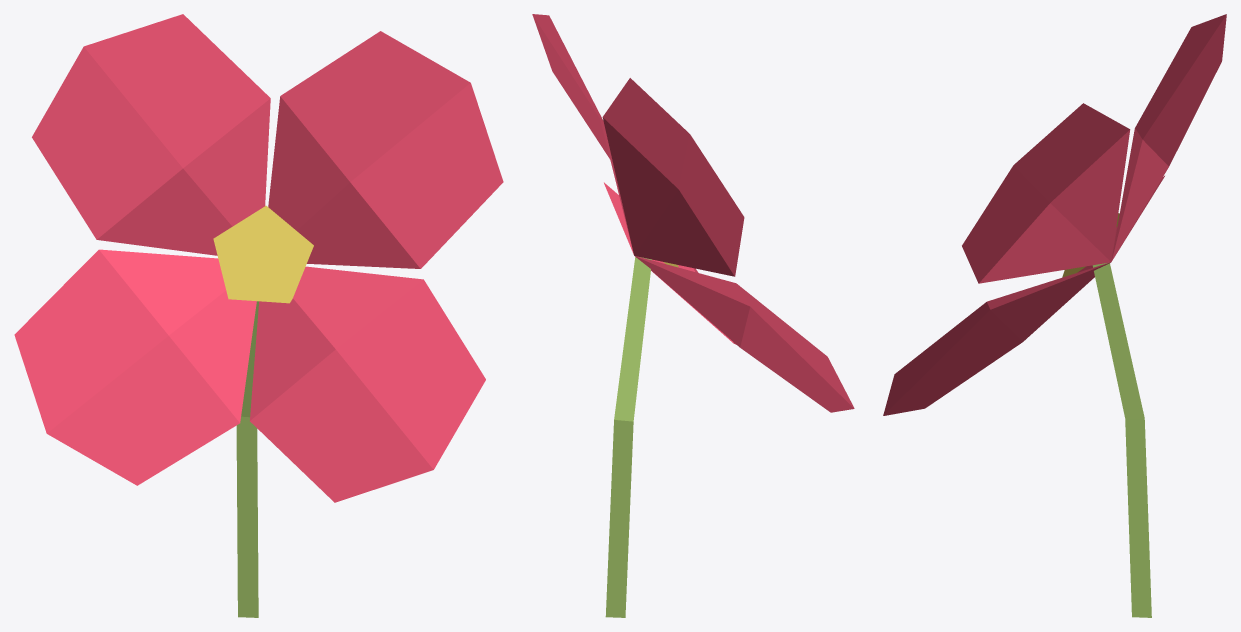
File: Flower_c_TwoS_07.fbx
3 renders of one model, left to right at view 1: azimuth 30°, elevation 25°; view 2: azimuth 150°, elevation 25°; view 3: azimuth 270°, elevation 25°, orthographic. The views are drawn at different scales.
Visible parts, largest first — view 1: Flower_c_TwoS_07; view 2: Flower_c_TwoS_07; view 3: Flower_c_TwoS_07.
Part boxes in pixels (<box>): Flower_c_TwoS_07: <box>14,14,503,617</box>; Flower_c_TwoS_07: <box>532,14,854,617</box>; Flower_c_TwoS_07: <box>883,14,1226,617</box>.
Bounding box in the file's own units: 26.2 × 38.11 × 20.86.
